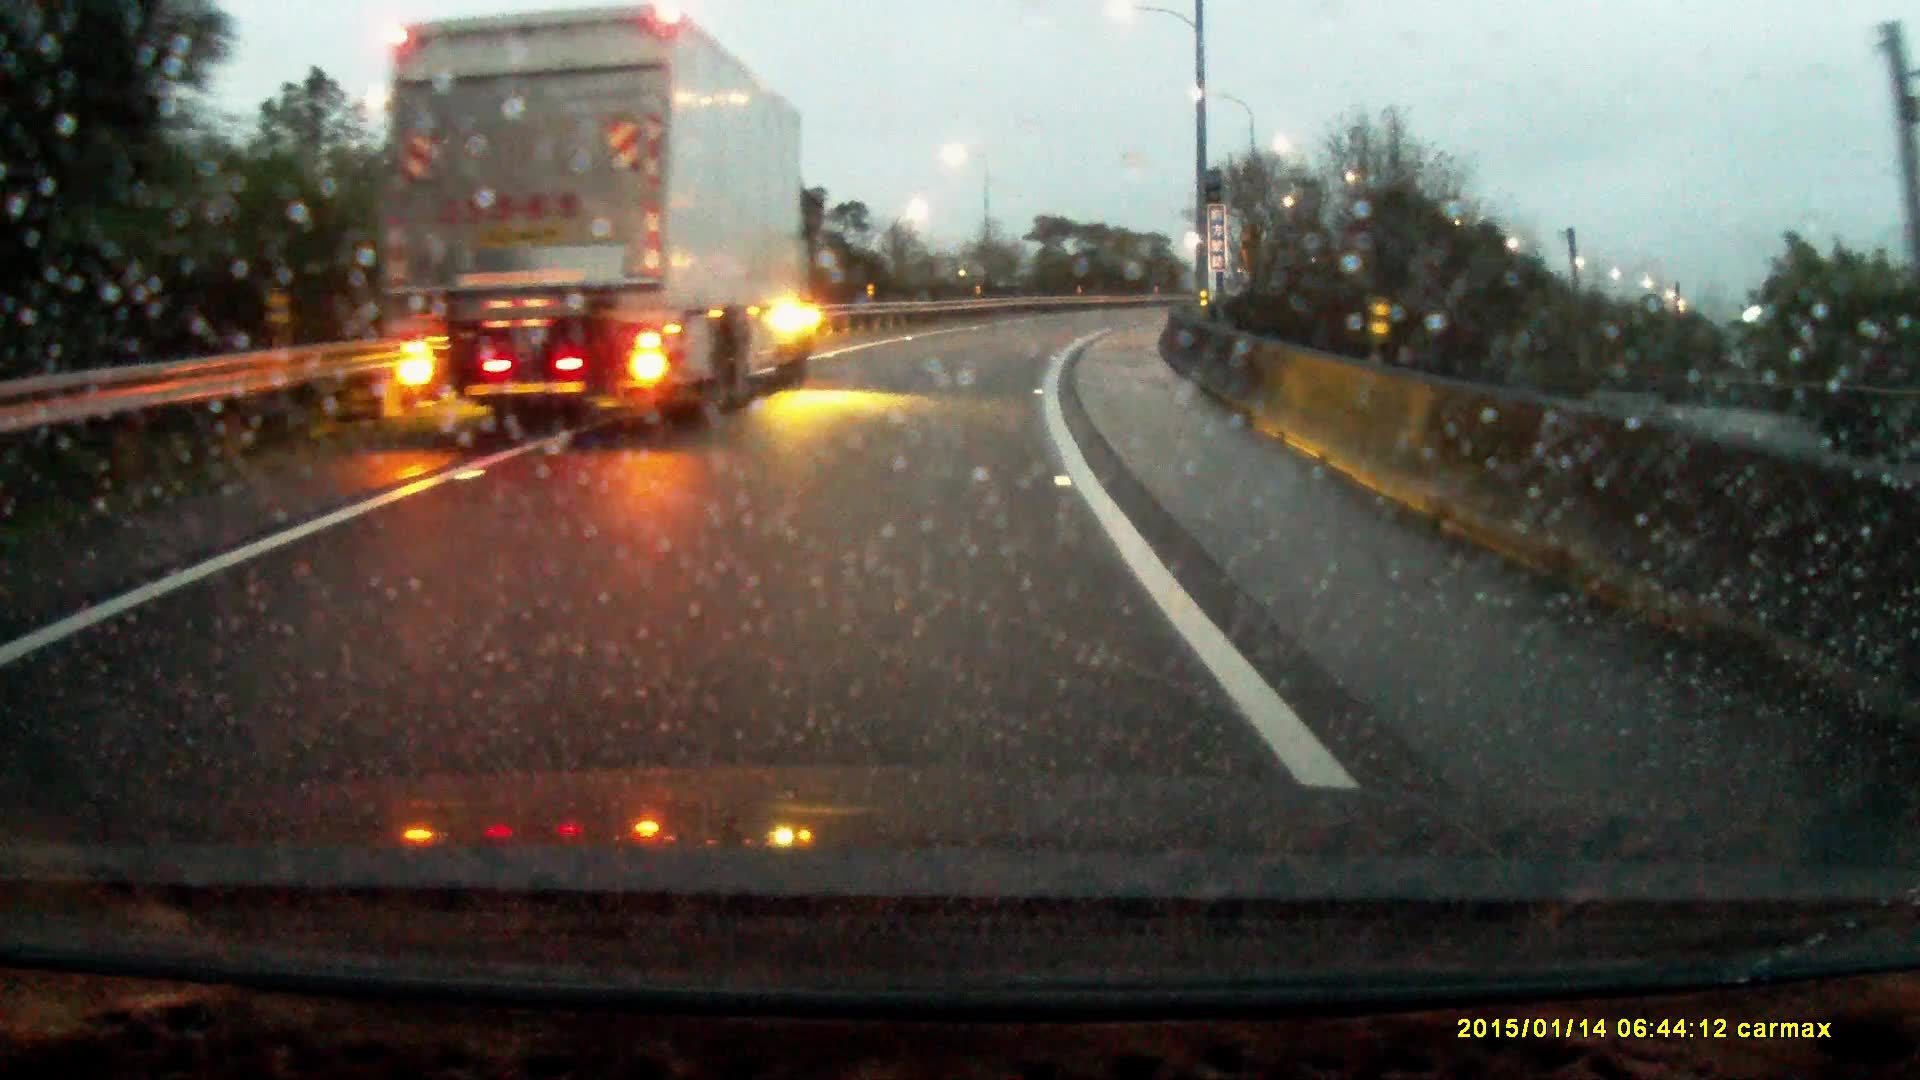vehicle: (377, 5, 822, 417)
